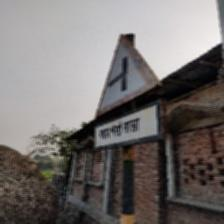Side-road-left: (95, 34, 160, 148)
